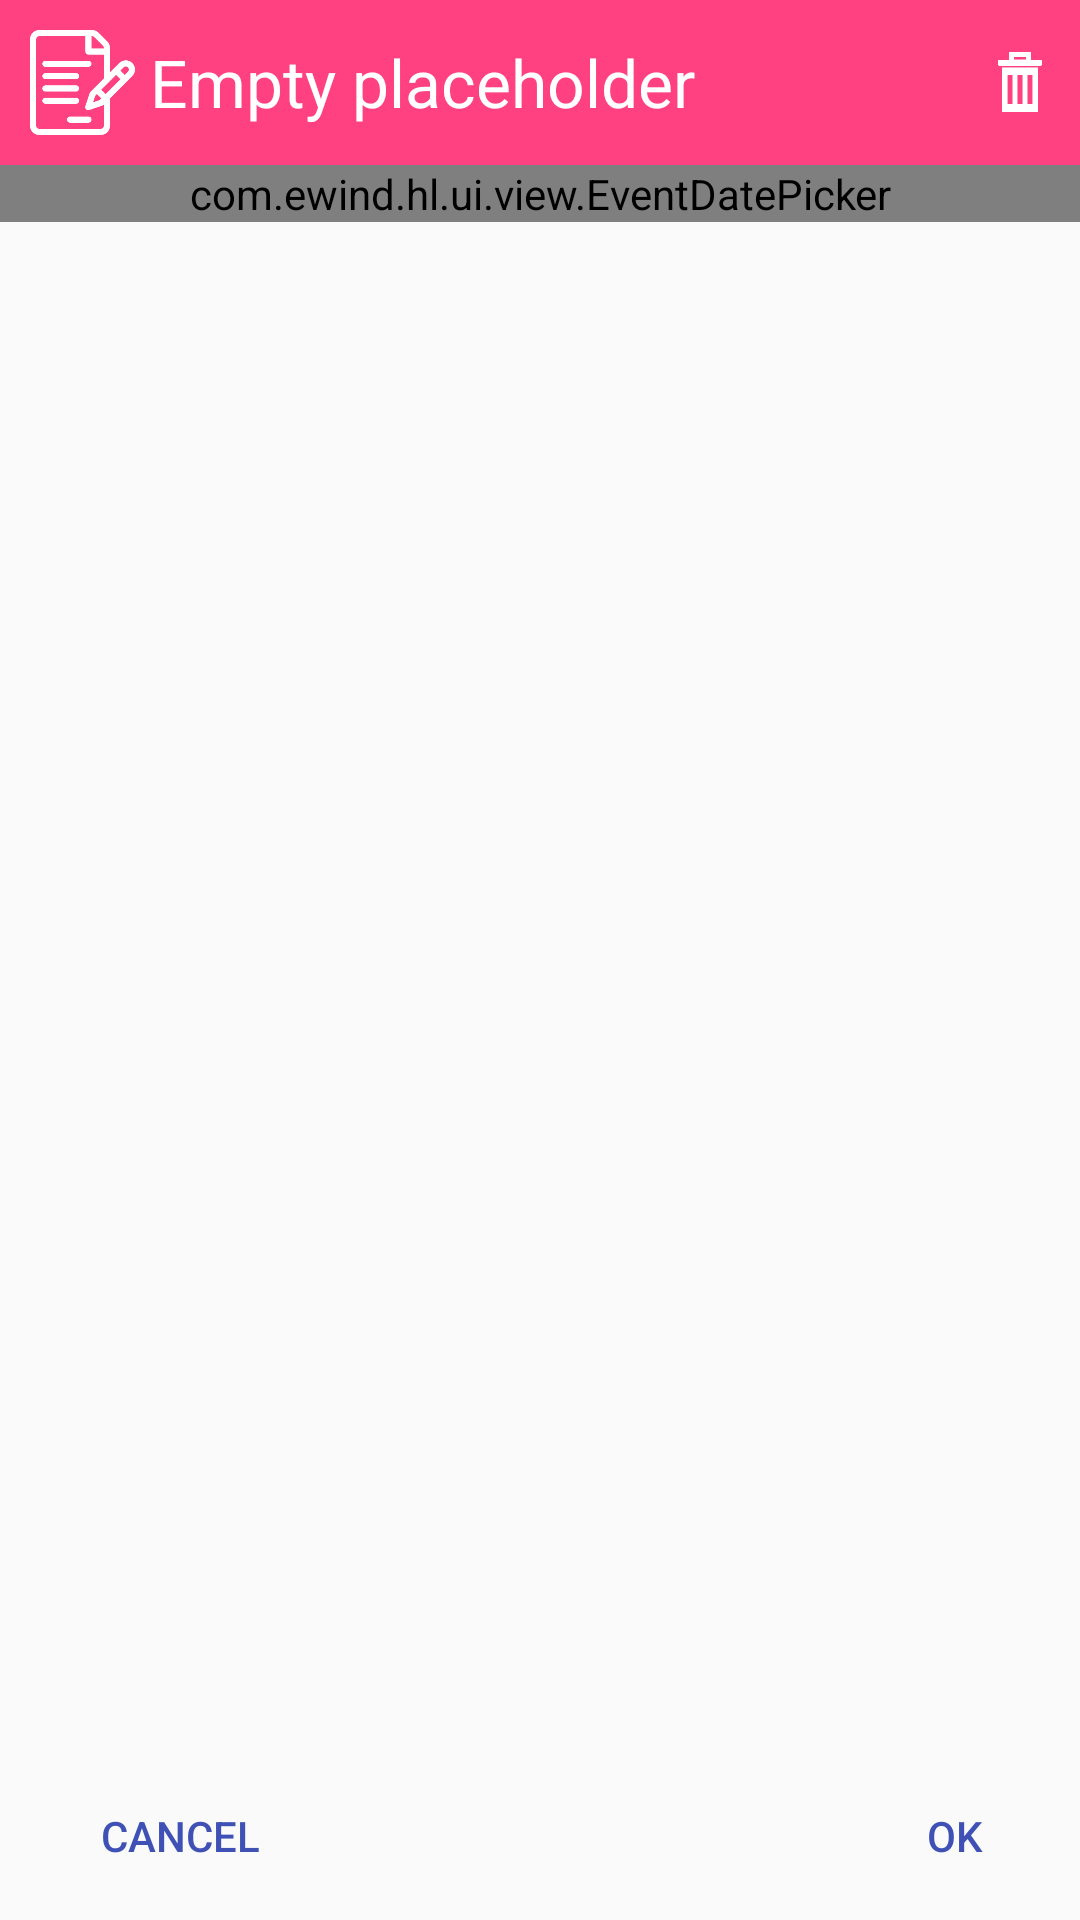

Icon click points for this 1080*1920 phone screenshot, format (x,y):
delete: (1020,82)
